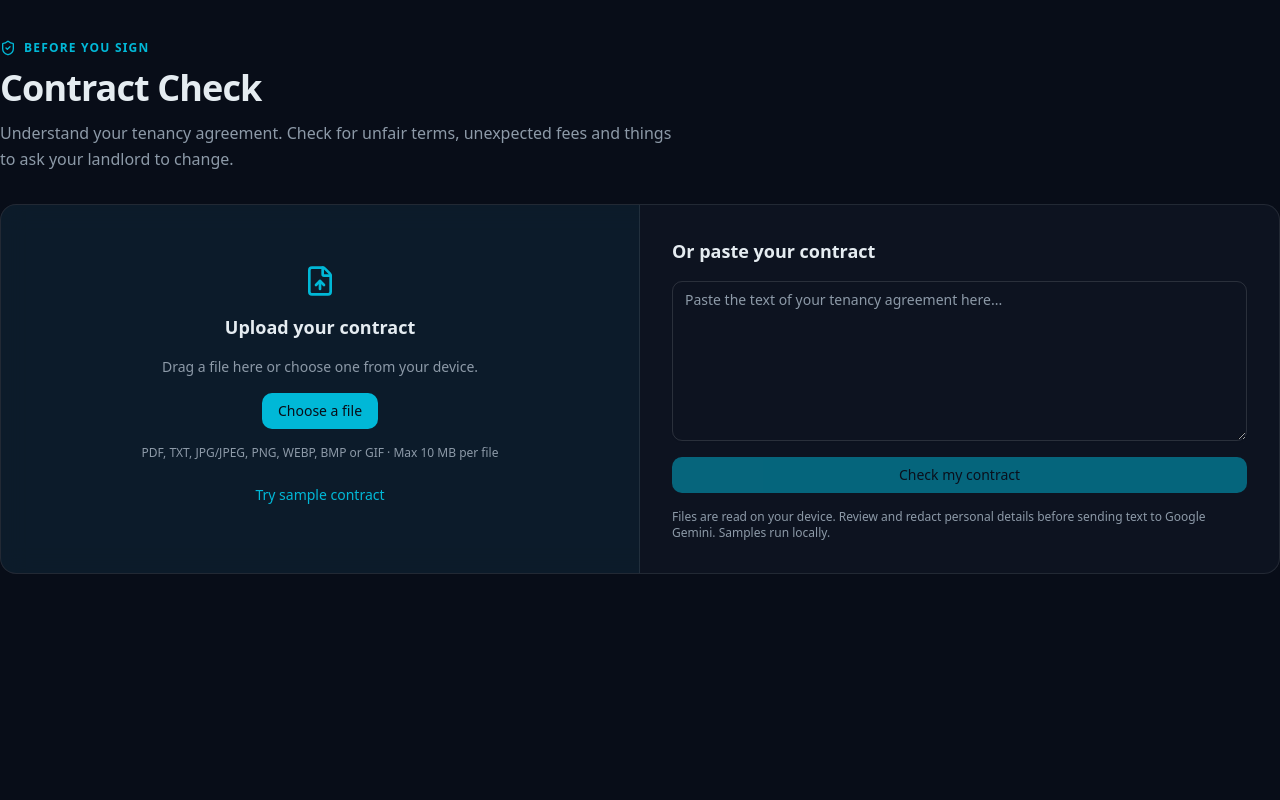
Test: 1 · shows the Contract summary above the red flags, every key term filled in or marked not stated
Type "ASSURED SHORTHOLD TENANCY AGREEMENT — 14 Gilesgate, Durham DH1 1HP SCHEDULE A — THE PARTIES (all people and contact details in this sample are fictional) Landlord: Wearside Student Lets Ltd Tenant 1: " into the text box labelled "Or paste your contract" at [960, 361], box [672,281,1247,441]
(page scrolled)
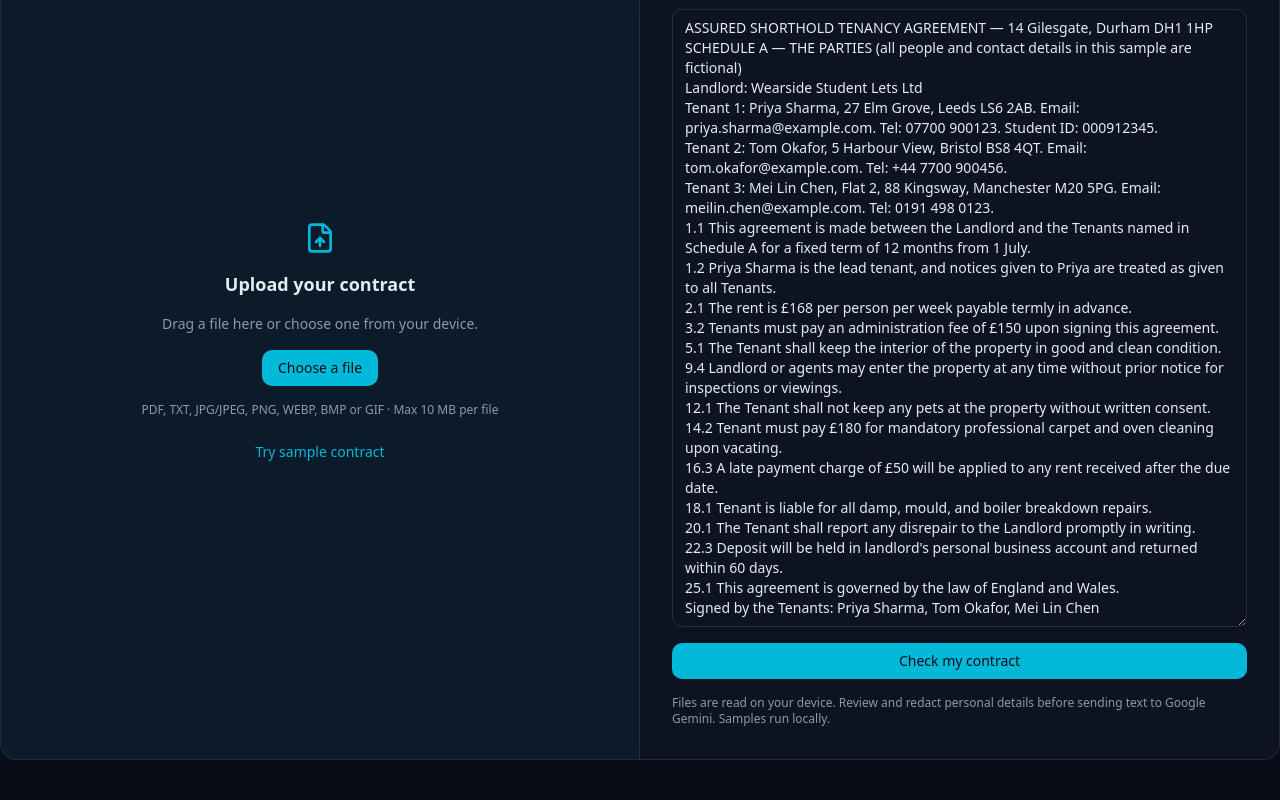
Click the button "Check my contract" at [960, 661], box [672,643,1247,679]
(page scrolled)
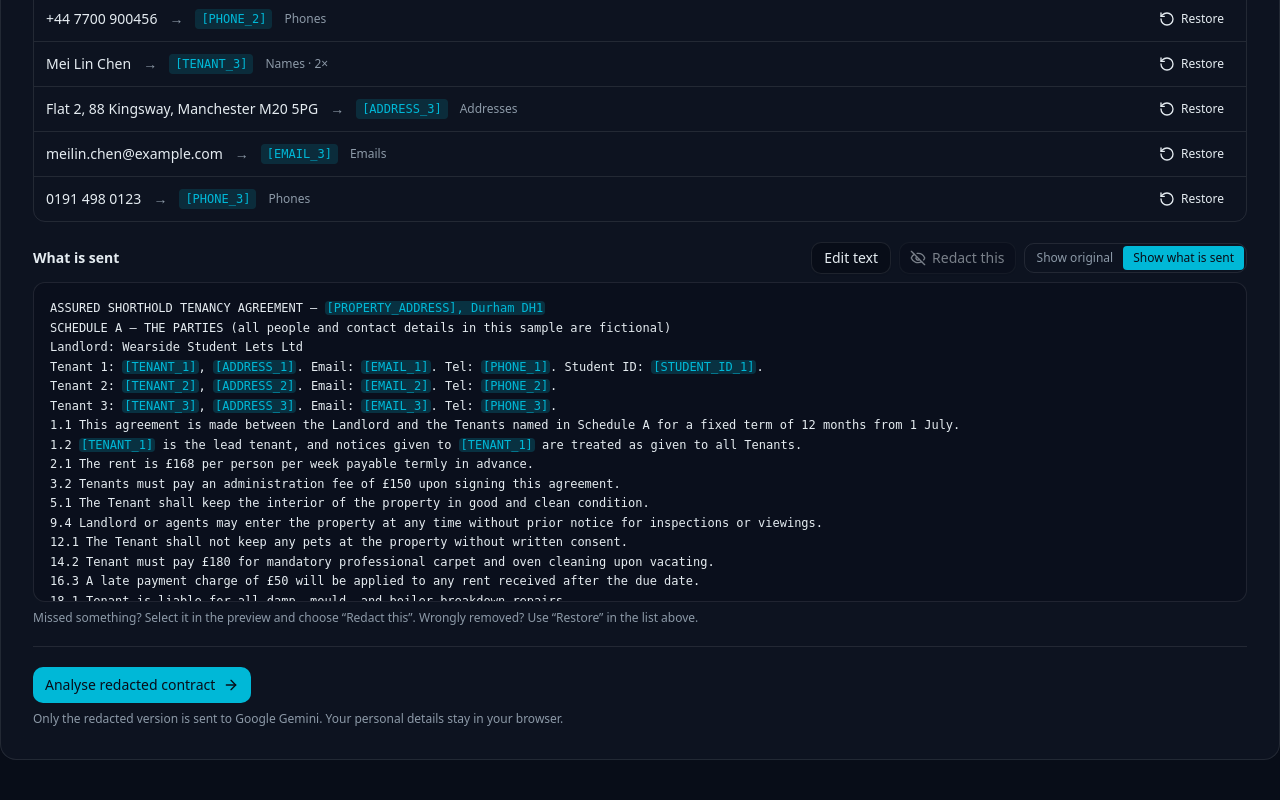
Click the button "Analyse redacted contract" at [142, 685], box [33,667,251,703]
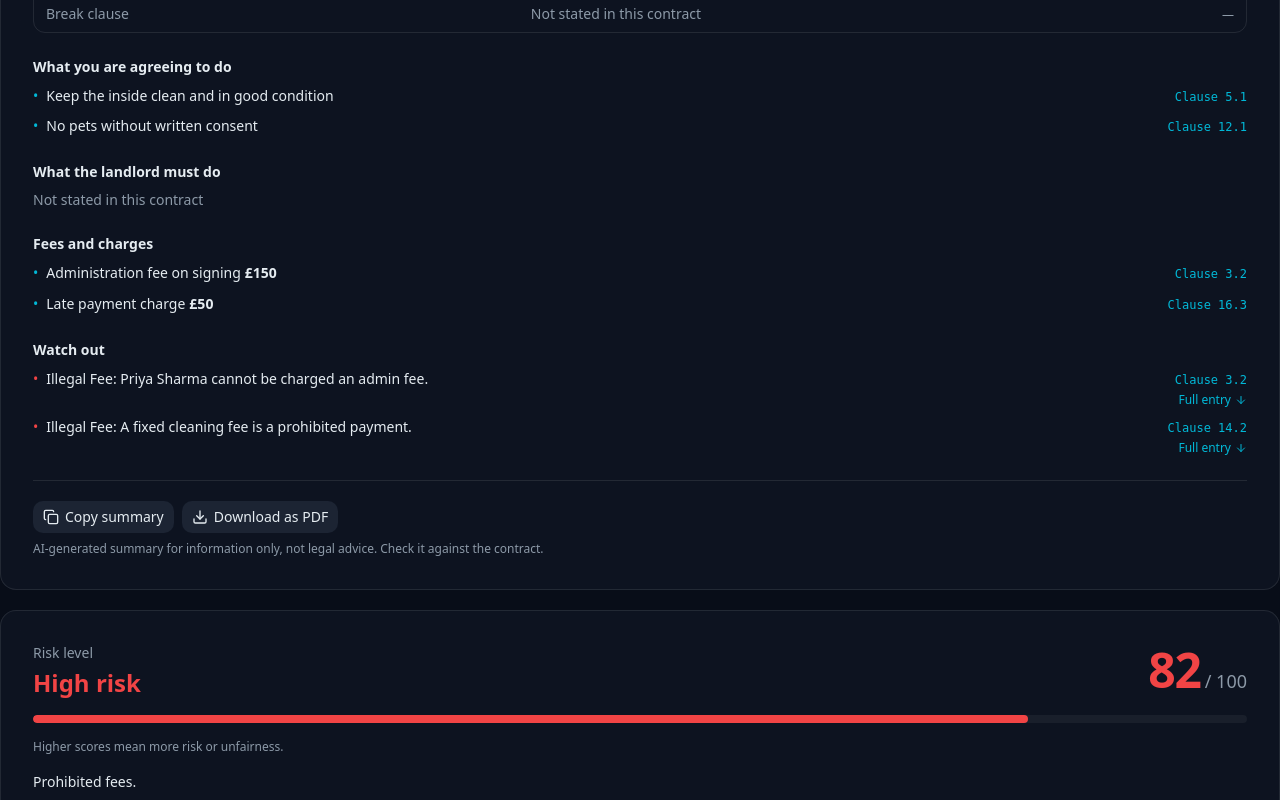
Expected: the heading "What you are agreeing to do" is shown, [33,56,232,76]
Expected: the heading "What the landlord must do" is shown, [33,162,220,181]
Expected: the heading "Fees and charges" is shown, [33,234,153,253]
